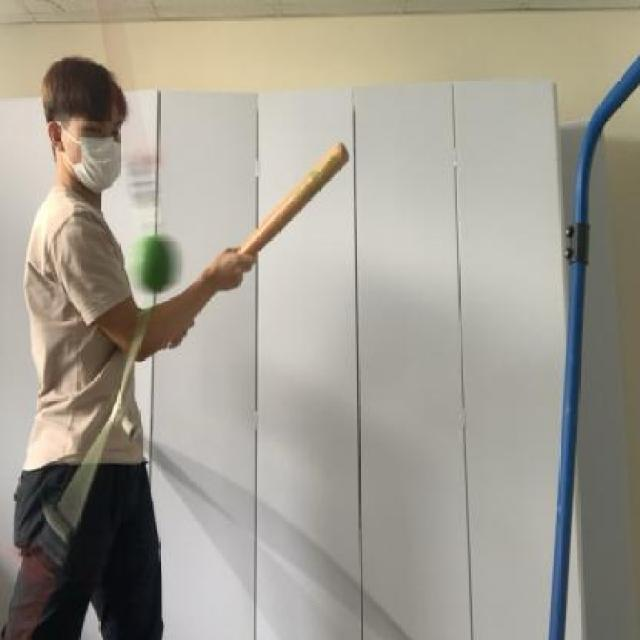baseball: (130, 218, 185, 308)
